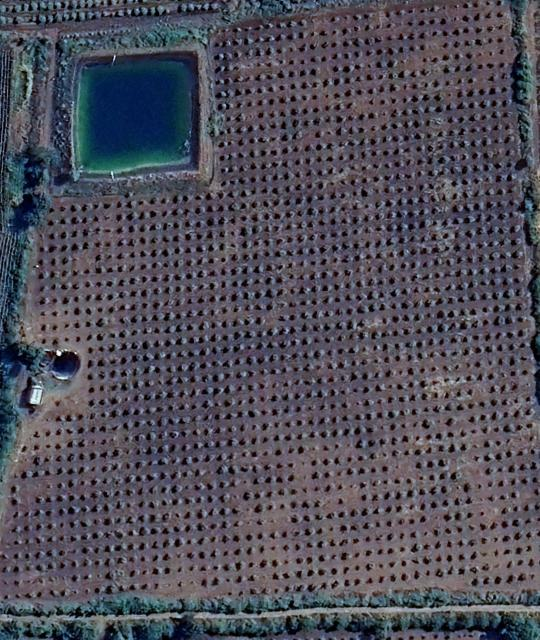Farms: (0, 3, 540, 594)
